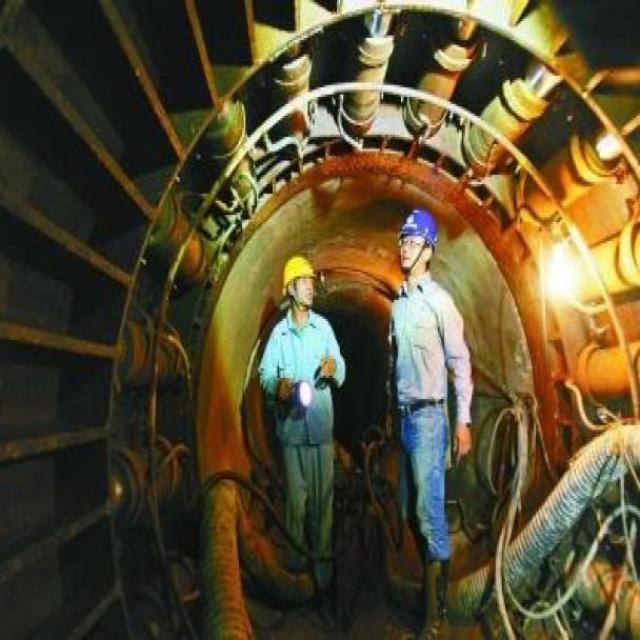helmet: (389, 203, 435, 276), (276, 243, 316, 317)
